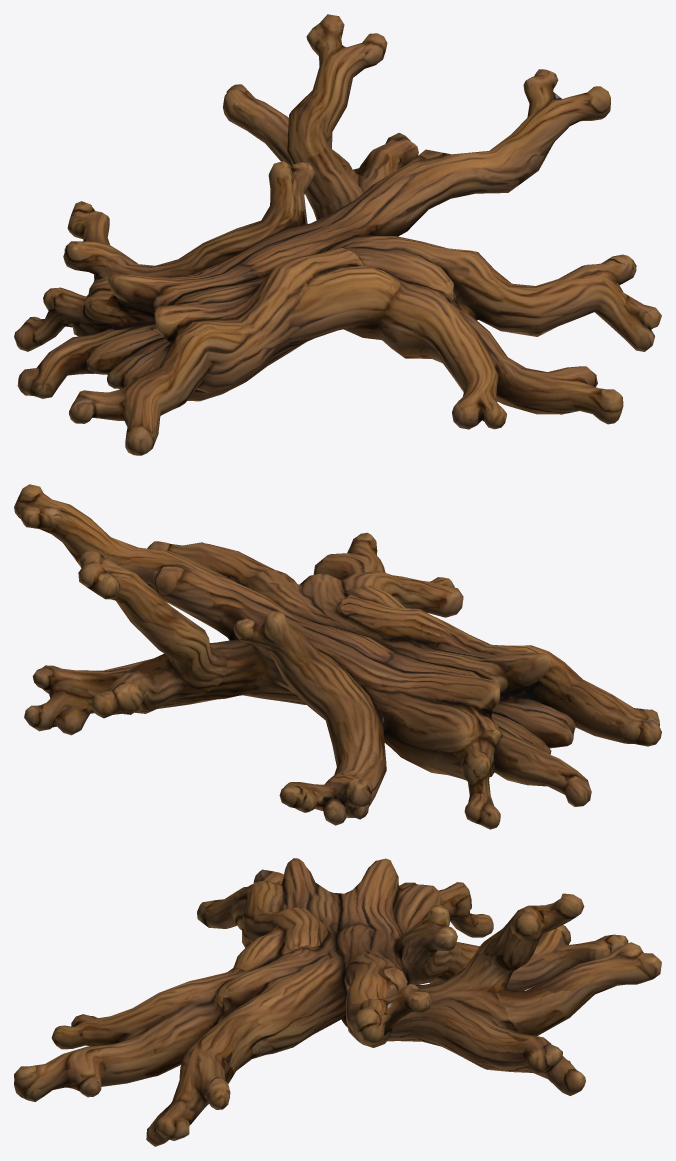
File: raiz_de_arbol.fbx
3 views of the same model, one above another, from view 1: azimuth 30°, elevation 25°; view 2: azimuth 150°, elevation 25°; view 3: azimuth 270°, elevation 25° (orthographic).
Parts seen in each view (by area): view 1: tripo_node_fa229d99; view 2: tripo_node_fa229d99; view 3: tripo_node_fa229d99.
Boxes of the visible parts, left/top/right/bottom form: tripo_node_fa229d99: left=14, top=14, right=661, bottom=455; tripo_node_fa229d99: left=14, top=484, right=661, bottom=829; tripo_node_fa229d99: left=14, top=858, right=661, bottom=1146.
Bounding box in the file's own units: 99.86 × 34.59 × 96.29.
1 material, 1 textured.
